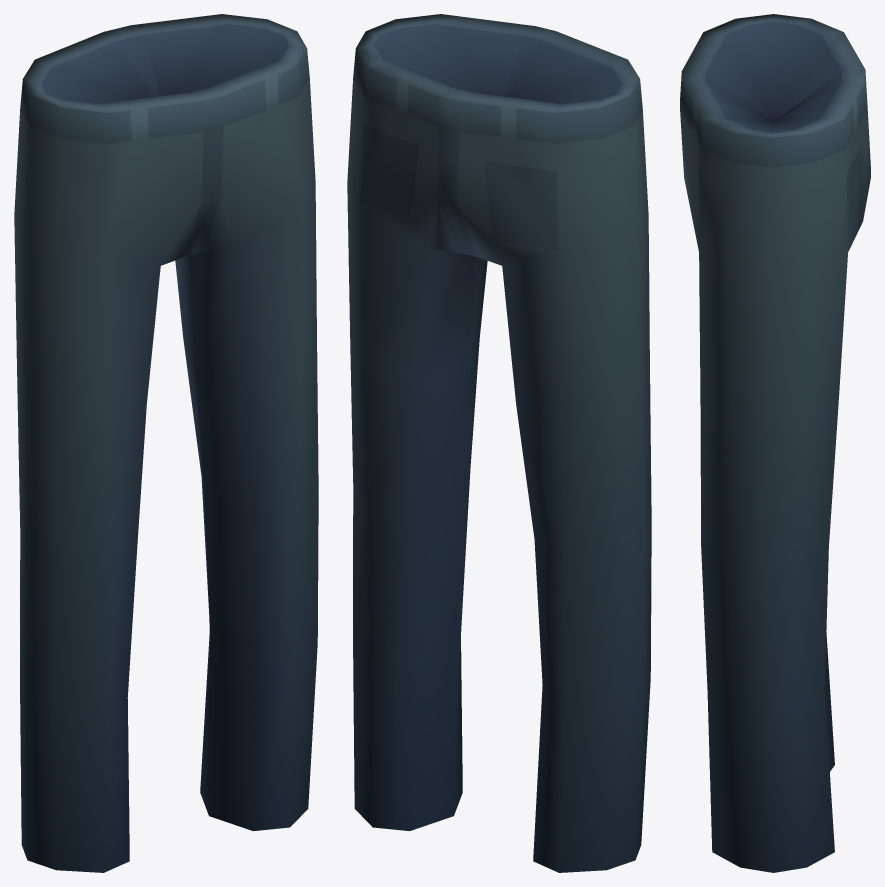
Rendered from human-clothing-pants_v1.fbx.
The picture shows the model from 3 angles, left to right: view 1: azimuth 30°, elevation 25°; view 2: azimuth 150°, elevation 25°; view 3: azimuth 270°, elevation 25°; orthographic projection. The views are drawn at different scales.
Parts seen in each view (by area): view 1: Pants; view 2: Pants; view 3: Pants.
Boxes of the visible parts, x1,y1,x2,y2 form: Pants: [14, 14, 318, 872]; Pants: [347, 14, 651, 872]; Pants: [680, 14, 870, 872].
Bounding box in the file's own units: 0.391 × 1 × 0.2363.
